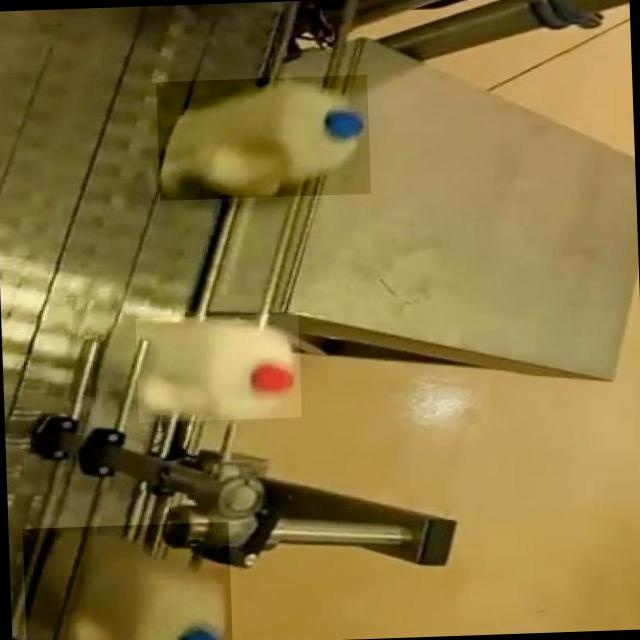milk: (159, 74, 368, 204), (126, 306, 303, 423)
